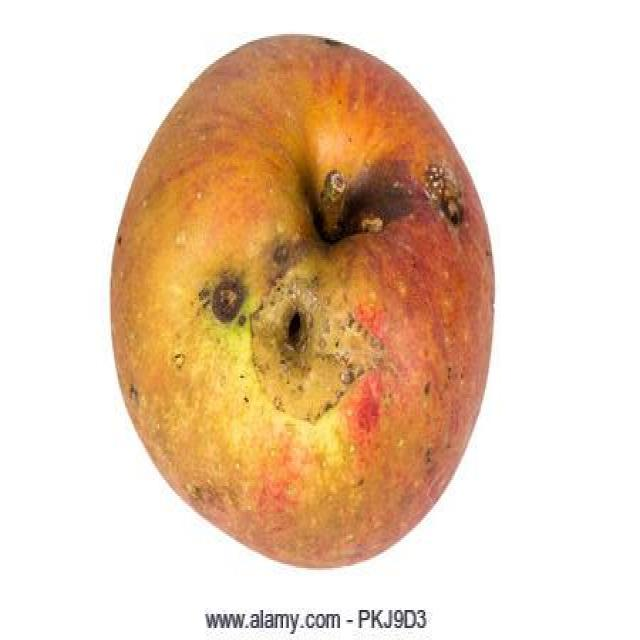Rotten: (109, 31, 498, 568)
